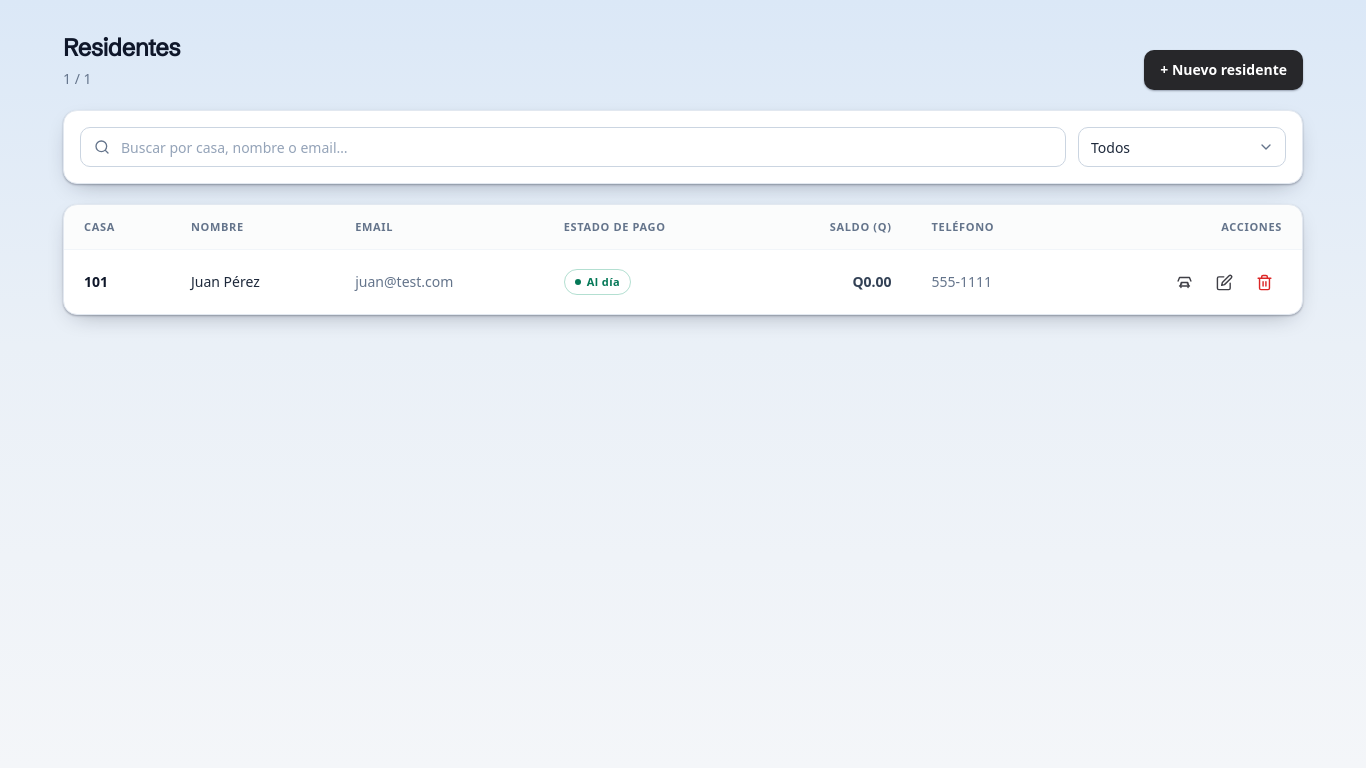
ResidentesPage › placas: cada casa abre sus placas autorizadas (la misma lista que baja la garita)
Click the button named "Placas autorizadas de la casa 101" at (1184, 282), box [1166,264,1202,300]
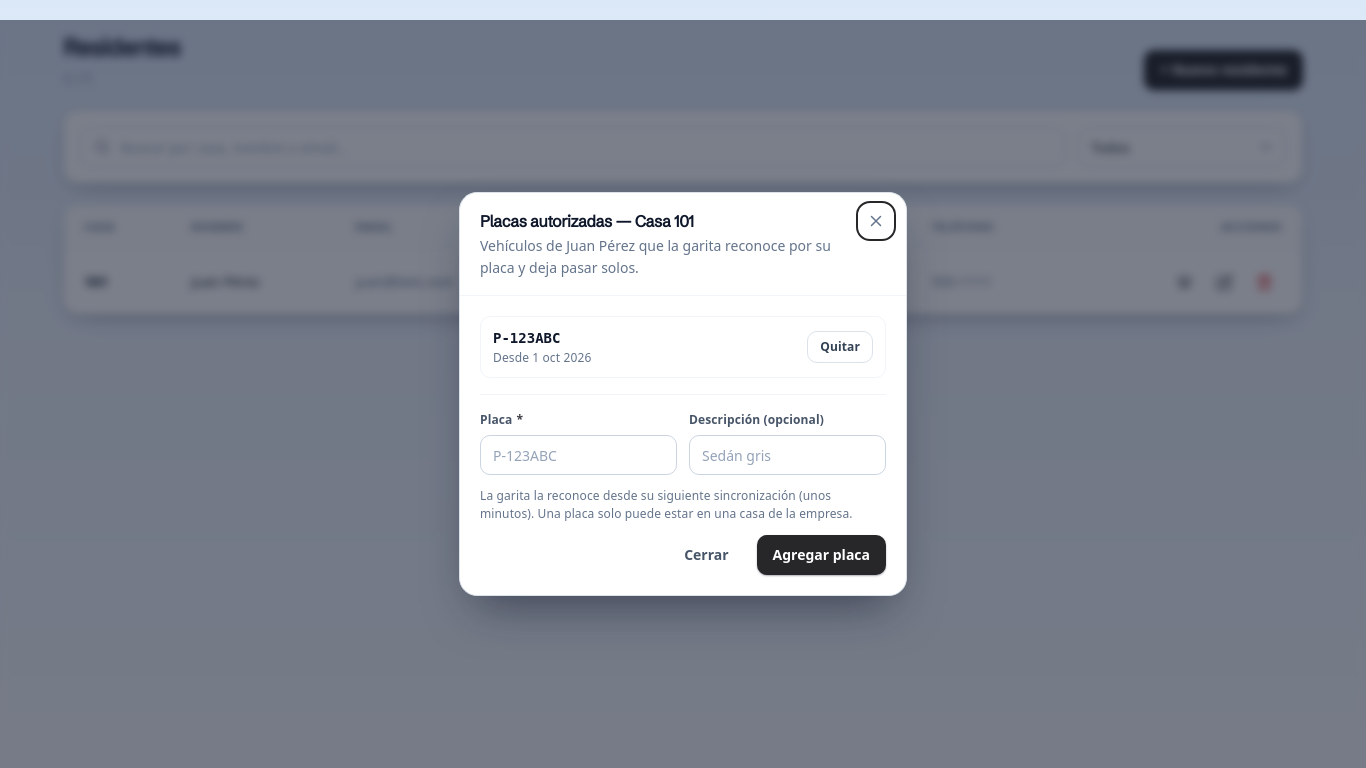
Expected: the dialog "Placas autorizadas — Casa 101" is shown, [459,192,907,596]
Expected: the text "P-123ABC" is shown, [493,330,560,346]
